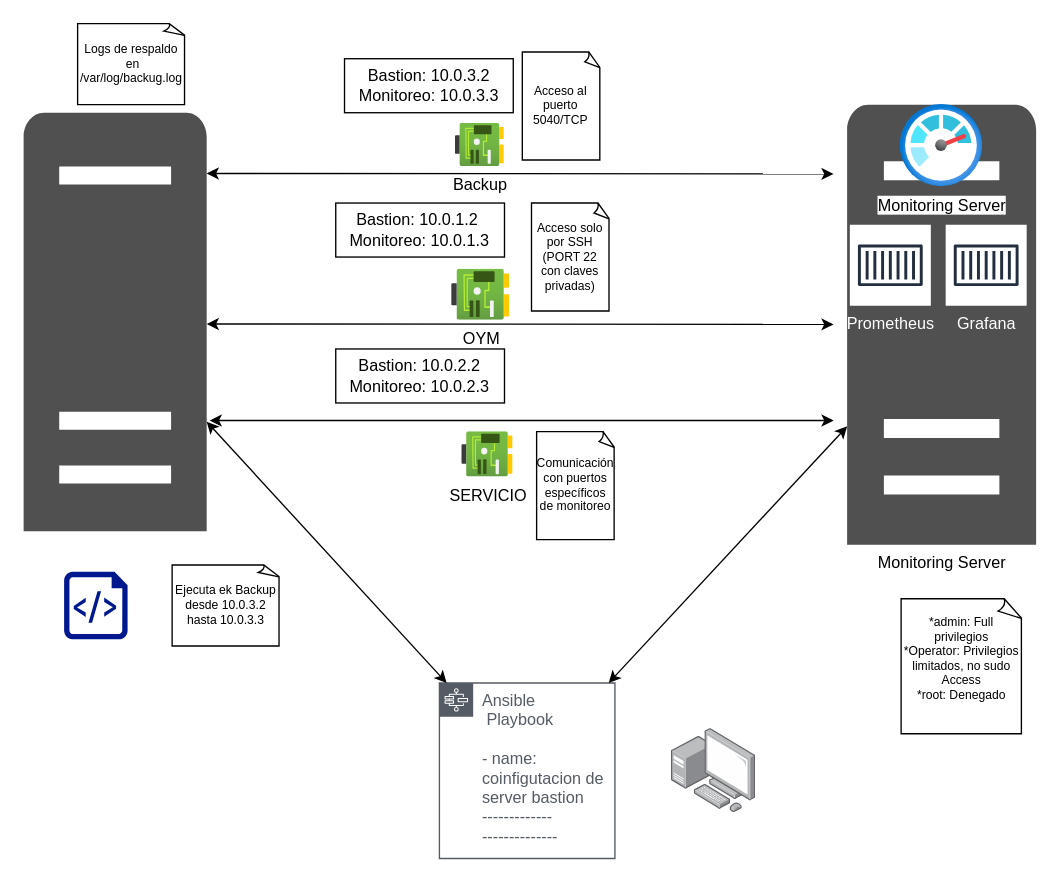
Some shapes in this 1058 by 883 pixel diagram are drawn without their labels. Here are the shapes that lost their labels. From the top down, the box of each, then its label:
(23, 112, 206, 531): Bastion Server
(63, 571, 127, 639): Script de Respaldo DIario
